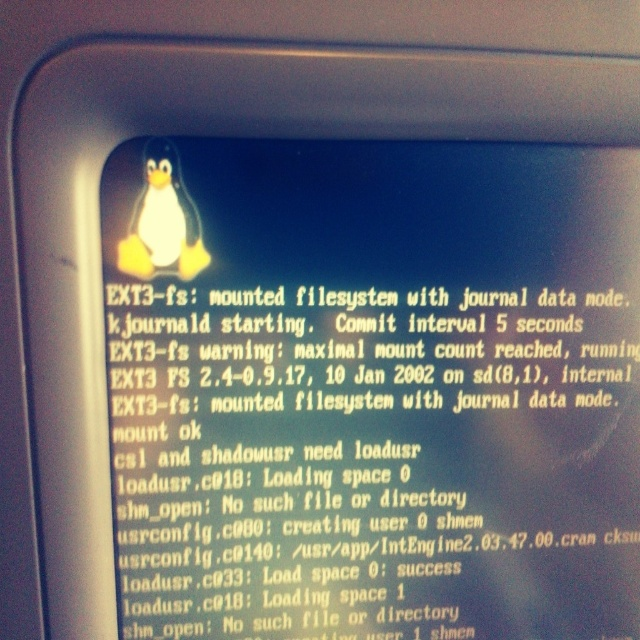Penguin: (116, 132, 199, 289)
